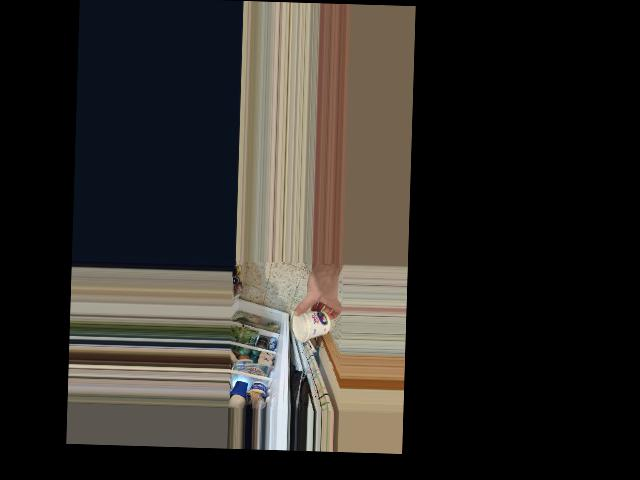cotage: (292, 307, 331, 341)
